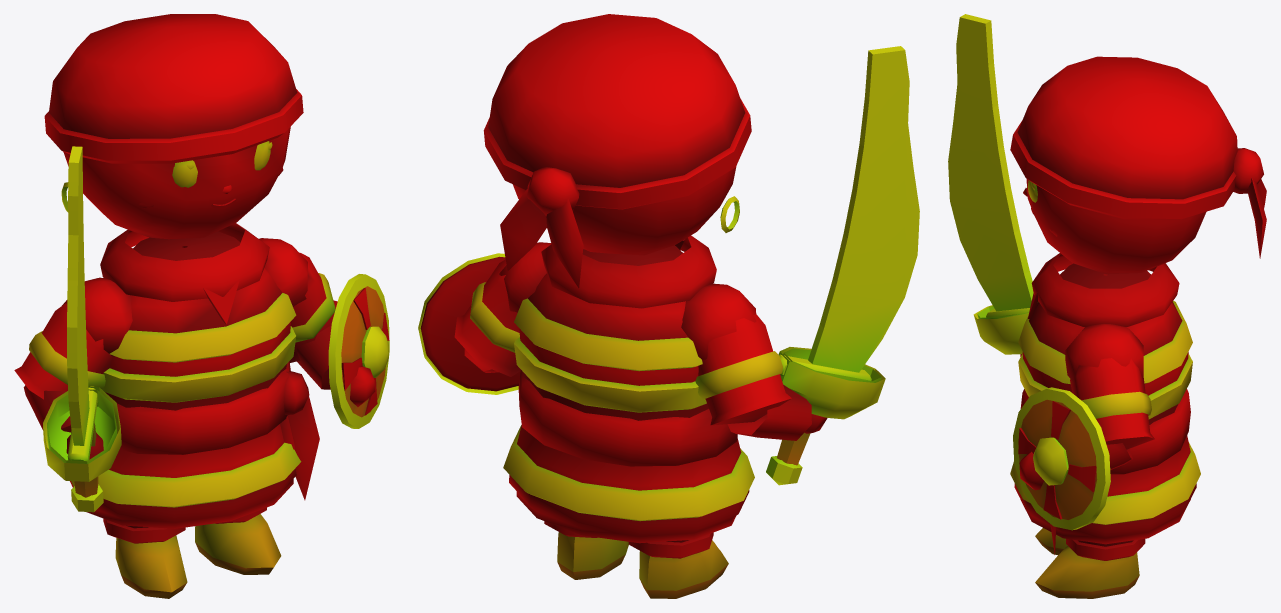
File: PirateSwabbie.glb
3 renders of one model, left to right at view 1: azimuth 30°, elevation 25°; view 2: azimuth 150°, elevation 25°; view 3: azimuth 270°, elevation 25°, orthographic. The views are drawn at different scales.
Parts seen in each view (by area): view 1: PirateSwabbie; view 2: PirateSwabbie; view 3: PirateSwabbie.
Part boxes in pixels (x1,y1,x2,y2): PirateSwabbie: [14, 14, 389, 598]; PirateSwabbie: [418, 14, 919, 598]; PirateSwabbie: [948, 14, 1266, 598].
Size of the model in its own units: 0.6555 by 0.8097 by 0.4811.
